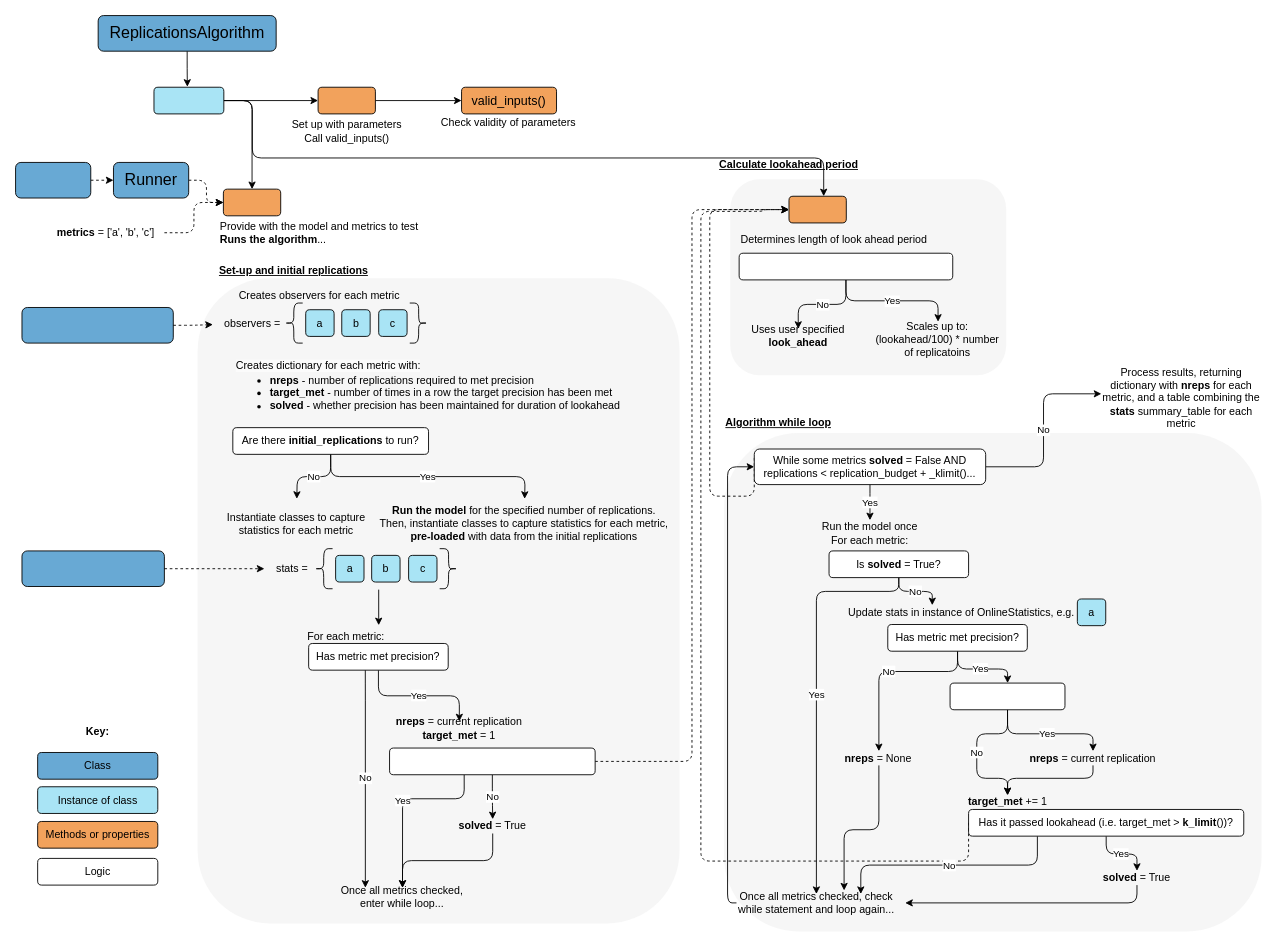
Some shapes in this 1277 by 947 pixel diagram are drawn without their labels. Here are the shapes that lost their labels. From the top down, the box of each, then its label:
(153, 86, 224, 114): analyser
(317, 86, 375, 114): init()
(15, 162, 91, 198): Param
(222, 188, 281, 216): select()
(788, 195, 846, 223): k_limit()
(738, 252, 953, 280): Have you run more than 100 replications?
(21, 307, 173, 343): ReplicationTabulizer
(21, 550, 164, 587): OnlineStatistics
(949, 682, 1065, 710): Does target_met = 0?
(389, 747, 595, 775): Is there a lookahead (i.e. k_limit > 0)?
